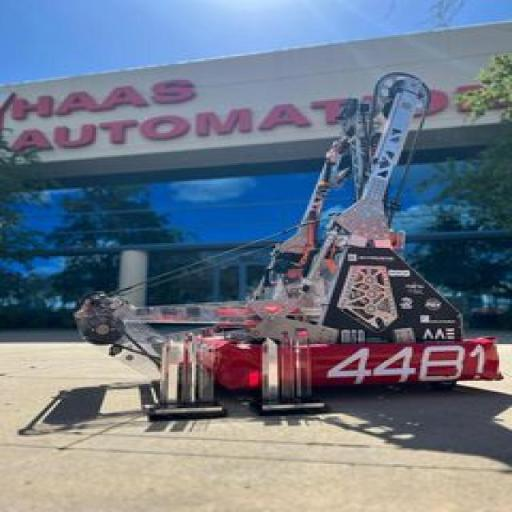robot: (70, 66, 506, 407)
